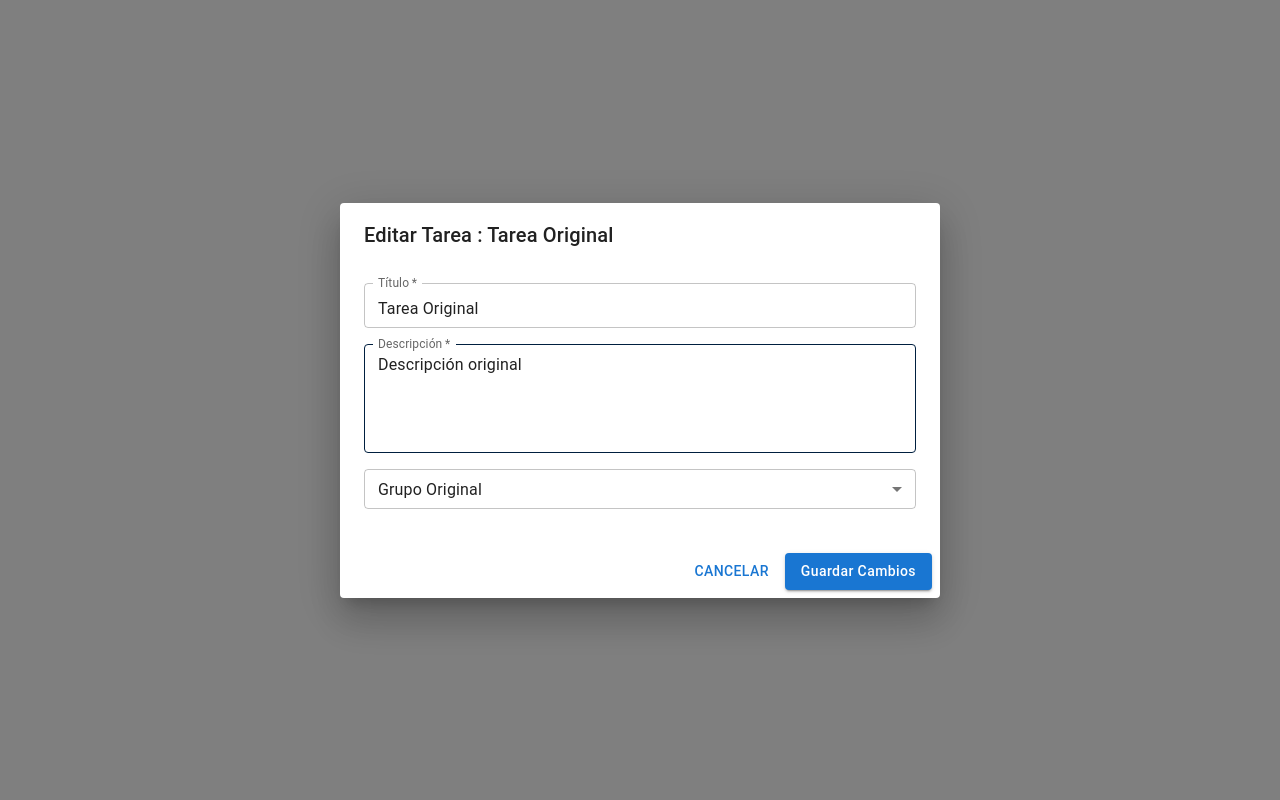
EditAssignmentDialog Component › debería mostrar diálogo de error cuando hay un error
The image size is (1280, 800).
Step 1. Click the button "Guardar Cambios" → (858, 571), box x1=785 y1=553 x2=932 y2=590
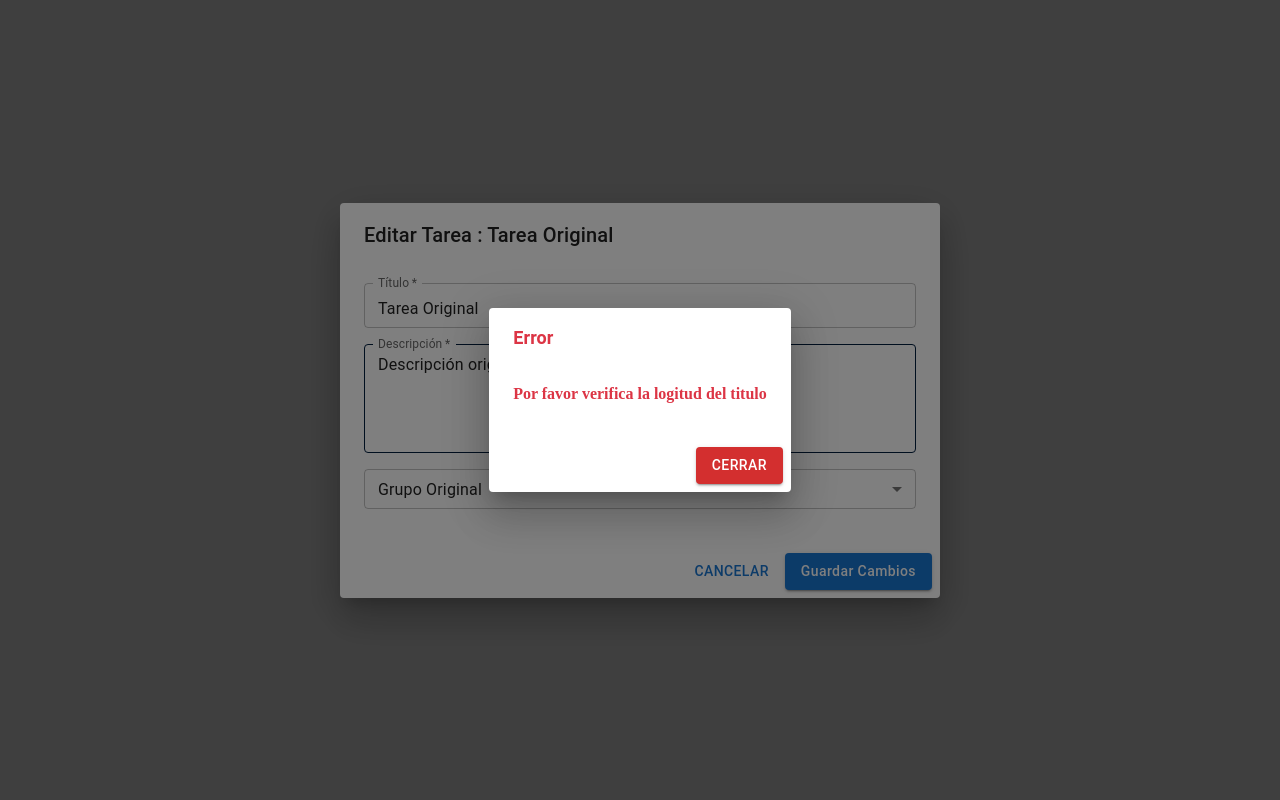
Now the heading "Error" is shown, box x1=513 y1=327 x2=554 y2=348
Now the text "Por favor verifica la logitud del titulo" is shown, box x1=513 y1=385 x2=767 y2=403
